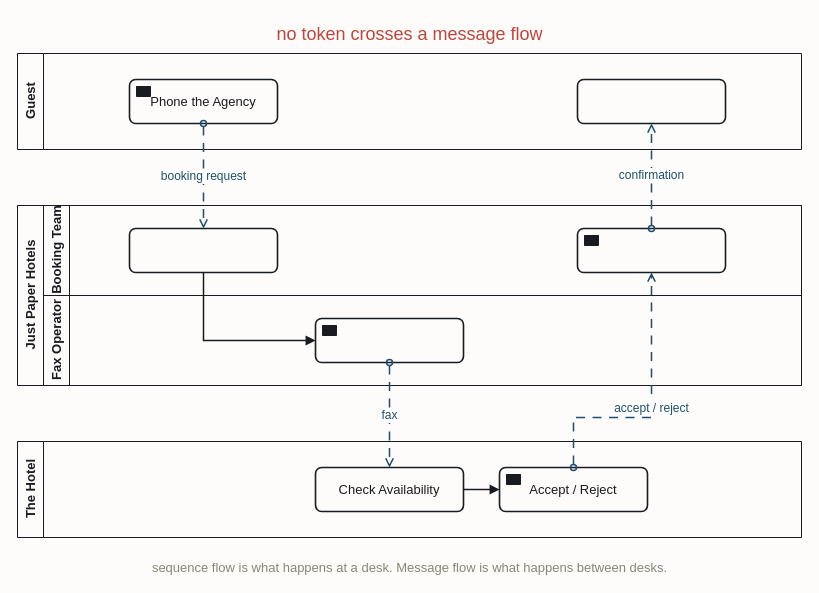
Some shapes in this 819 by 593 pixel diagram are drawn without their labels. Each missing label, with the centre of its shape:
"Confirm to Guest" goes at pixel 651 250.
"Create Booking Request" goes at pixel 203 250.
"Fax the Hotel" goes at pixel 389 340.
"Pay for the Booking" goes at pixel 651 101.
